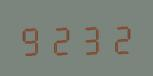nine: (18, 21, 46, 56)
three: (76, 19, 104, 55)
two: (47, 20, 75, 56), (105, 19, 133, 54)
